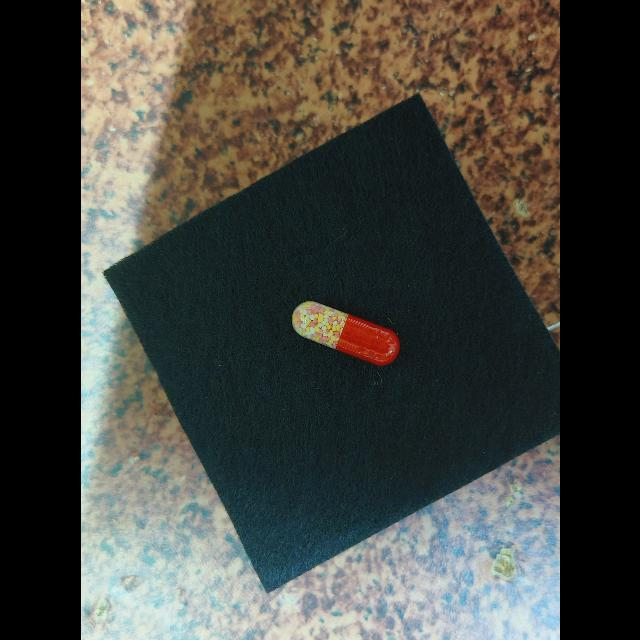Intact Capsule: (291, 301, 399, 366)
